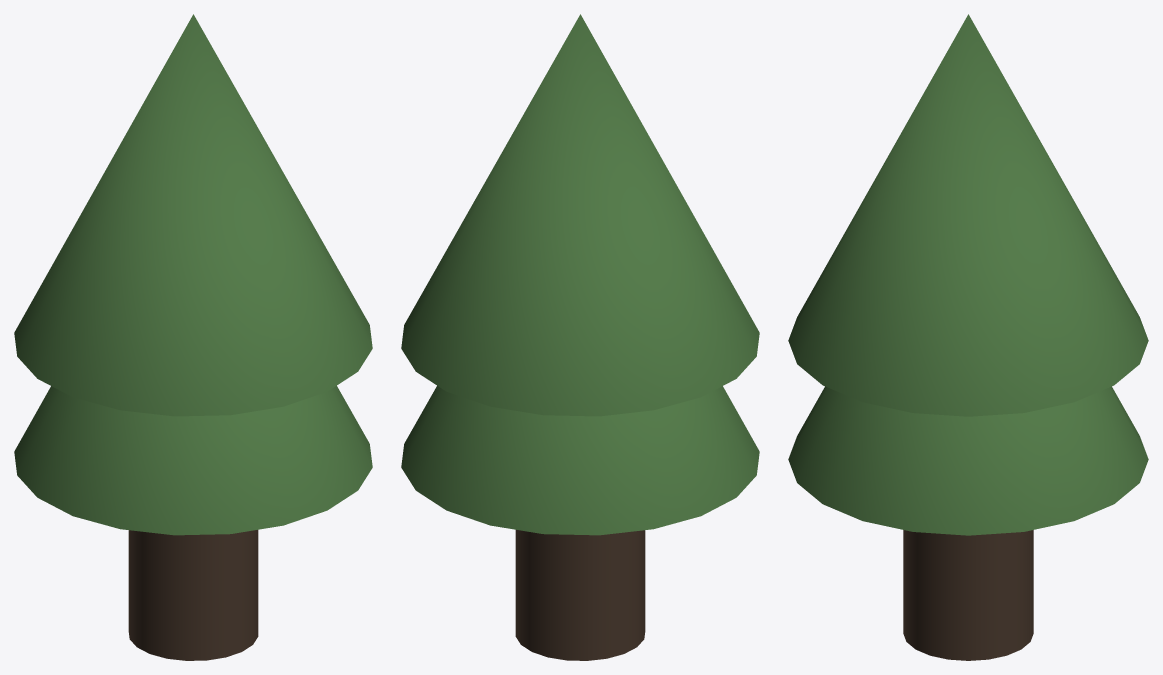
Rendered from tree.fbx.
The picture shows the model from 3 angles, left to right: view 1: azimuth 30°, elevation 25°; view 2: azimuth 150°, elevation 25°; view 3: azimuth 270°, elevation 25°; orthographic projection.
Visible parts, largest first — view 1: pCone2, pCone1, pCylinder1; view 2: pCone2, pCone1, pCylinder1; view 3: pCone2, pCone1, pCylinder1.
Boxes of the visible parts, <box> form: pCone2: <box>14,14,372,416</box>; pCone1: <box>14,385,372,535</box>; pCylinder1: <box>128,530,258,660</box>; pCone2: <box>401,14,759,416</box>; pCone1: <box>401,385,759,535</box>; pCylinder1: <box>515,530,645,660</box>; pCone2: <box>788,14,1148,416</box>; pCone1: <box>788,386,1148,535</box>; pCylinder1: <box>903,530,1033,660</box>.
Size of the model in its own units: 4.07 by 7.72 by 4.07.
